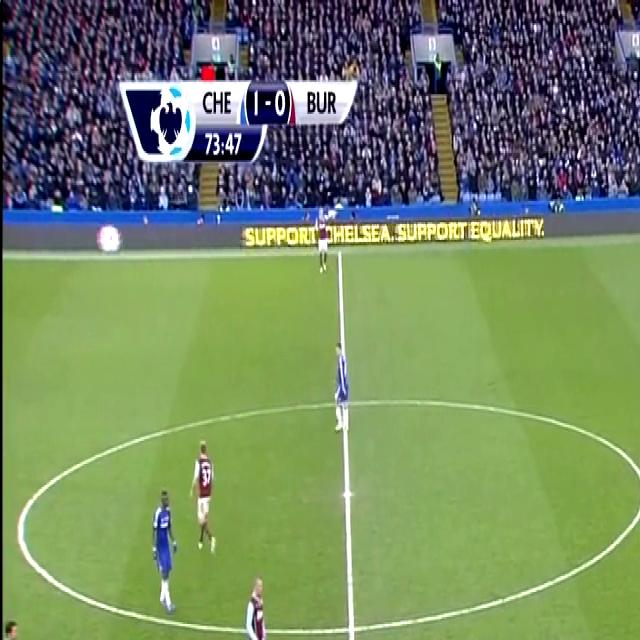soccer-player: (142, 481, 183, 619), (188, 432, 224, 566), (240, 569, 283, 640), (327, 336, 352, 446), (315, 206, 336, 280), (0, 608, 29, 640)
